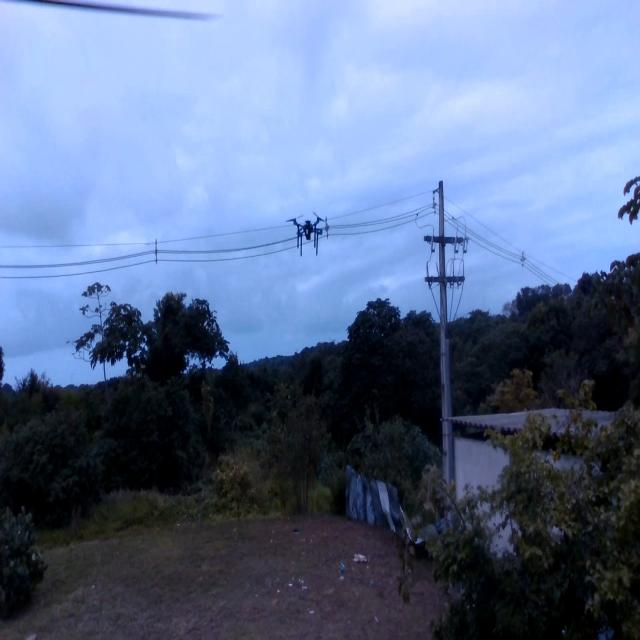-uav-: (282, 200, 328, 267)
